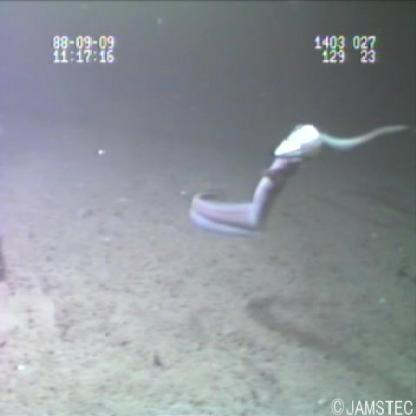Bio: (180, 114, 325, 250), (300, 118, 414, 159)
